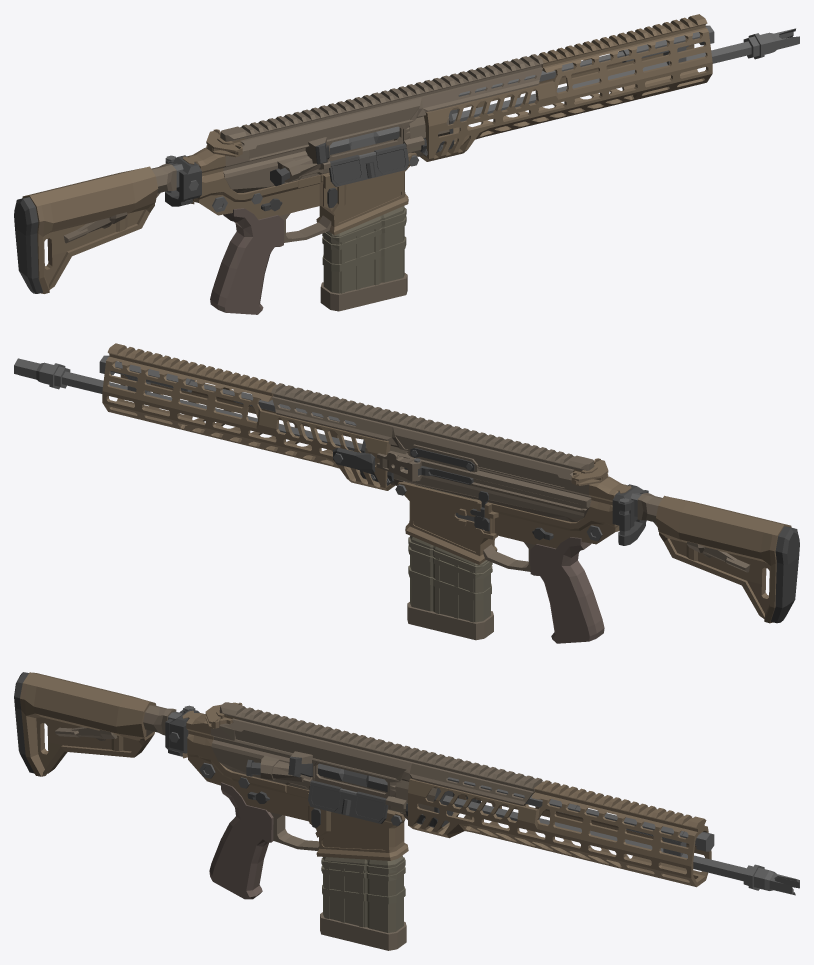
The picture shows the model from 3 angles, top to bottom: view 1: azimuth 30°, elevation 25°; view 2: azimuth 150°, elevation 25°; view 3: azimuth 330°, elevation 25°; orthographic projection.
Visible parts, largest first — view 1: Cube.011_Material.001, Plane_Material, Cube.003_Material.001, Plane.001_Material.001, Cube_Material.005, Plane.002_Material.004, Cylinder, Cube.003_Material.002, Plane_Material.002, Cube_Material, Cube.003_Material, Plane_Material.003 (+2 smaller); view 2: Plane_Material, Cube.011_Material.001, Plane.001_Material.001, Cube.003_Material.001, Cube_Material.005, Plane.002_Material.004, Cylinder, Cube.003_Material.002, Cube_Material, Cube.003_Material, Cube.002_Material, Cube.011_Material.002 (+4 smaller); view 3: Cube.011_Material.001, Plane_Material, Cube.003_Material.001, Plane.001_Material.001, Cube_Material.005, Plane.002_Material.004, Cylinder, Plane_Material.002, Cube_Material, Cube.003_Material.002, Cube.003_Material, Plane_Material.003 (+1 smaller).
Boxes of the visible parts, box(x1,y1,x2,y2) form: Cube.011_Material.001: box(419, 14, 712, 161); Plane_Material: box(220, 54, 543, 192); Cube.003_Material.001: box(22, 166, 158, 293); Plane.001_Material.001: box(183, 147, 417, 235); Cube_Material.005: box(322, 206, 406, 293); Plane.002_Material.004: box(210, 208, 284, 314); Cylinder: box(452, 25, 799, 122); Cube.003_Material.002: box(14, 155, 201, 293); Plane_Material.002: box(270, 111, 454, 186); Cube_Material: box(320, 273, 407, 311); Cube.003_Material: box(64, 163, 176, 243); Plane_Material.003: box(329, 126, 443, 158); Plane_Material: box(271, 383, 594, 521); Cube.011_Material.001: box(102, 343, 394, 490); Plane.001_Material.001: box(397, 476, 631, 564); Cube.003_Material.001: box(656, 495, 791, 623); Cube_Material.005: box(408, 485, 492, 622); Plane.002_Material.004: box(530, 537, 604, 643); Cylinder: box(14, 355, 362, 450); Cube.003_Material.002: box(612, 484, 799, 623); Cube_Material: box(407, 602, 493, 640); Cube.003_Material: box(637, 493, 750, 572); Cube.002_Material: box(377, 452, 421, 481); Cube.011_Material.002: box(333, 447, 375, 473); Cube.011_Material.001: box(408, 778, 711, 887); Plane_Material: box(210, 702, 542, 819); Cube.003_Material.001: box(20, 672, 156, 776); Plane.001_Material.001: box(182, 710, 408, 860); Cube_Material.005: box(321, 855, 405, 932); Plane.002_Material.004: box(209, 782, 273, 899); Cylinder: box(442, 777, 799, 895); Plane_Material.002: box(246, 756, 453, 827); Cube_Material: box(320, 912, 406, 950); Cube.003_Material.002: box(14, 672, 199, 773); Cube.003_Material: box(55, 705, 176, 740); Plane_Material.003: box(318, 763, 424, 823).
Size of the model in its own units: 0.9001 by 0.2195 by 0.067.
